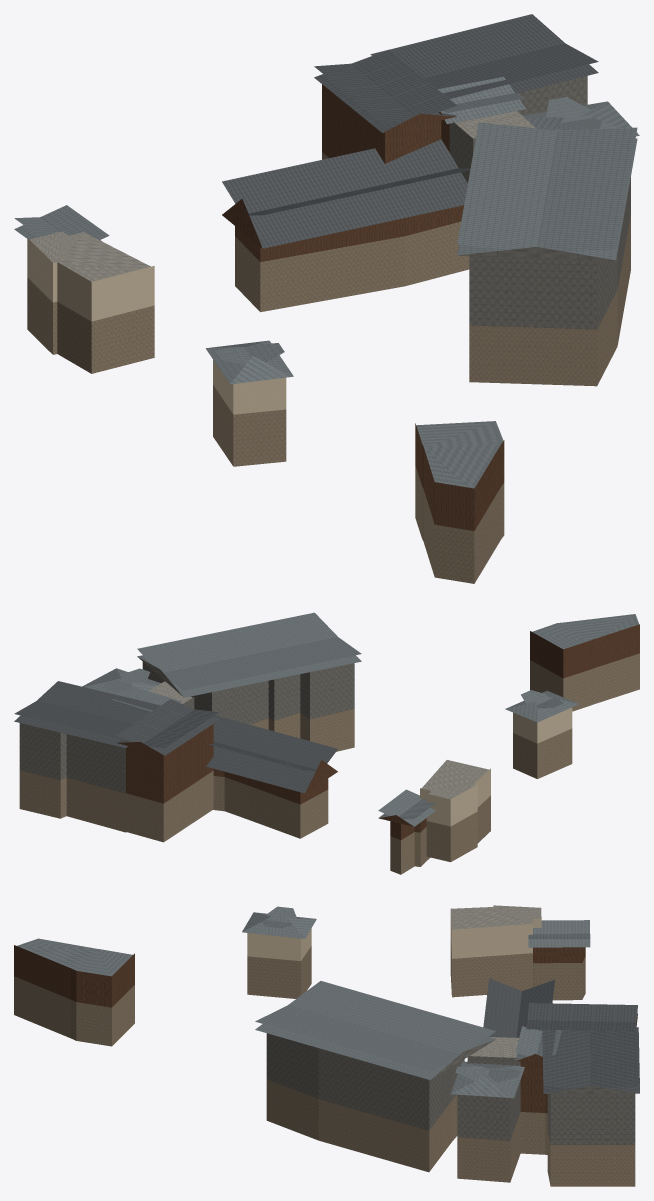
The model's file is bld_c36_-29_441.gltf.
The picture shows the model from 3 angles, top to bottom: view 1: azimuth 30°, elevation 25°; view 2: azimuth 150°, elevation 25°; view 3: azimuth 270°, elevation 25°; orthographic projection. The views are drawn at different scales.
Parts seen in each view (by area): view 1: bld_c36_-29_441; view 2: bld_c36_-29_441; view 3: bld_c36_-29_441.
Part boxes in pixels (x1=…): bld_c36_-29_441: x1=14, y1=14, x2=639, y2=583; bld_c36_-29_441: x1=14, y1=612, x2=639, y2=874; bld_c36_-29_441: x1=14, y1=905, x2=639, y2=1186.
Size of the model in its own units: 54.57 by 12.8 by 69.43.
Materials: 10 (10 with a texture image).
